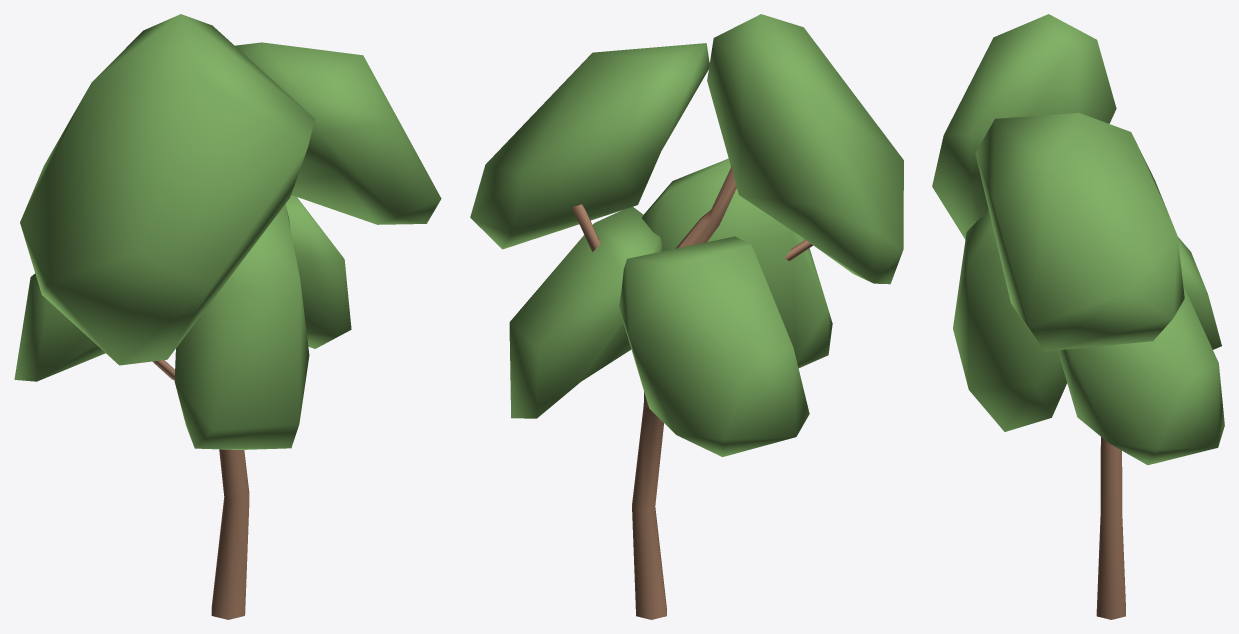
The model's file is tree10.fbx.
The picture shows the model from 3 angles, left to right: view 1: azimuth 30°, elevation 25°; view 2: azimuth 150°, elevation 25°; view 3: azimuth 270°, elevation 25°; orthographic projection. The views are drawn at different scales.
Parts seen in each view (by area): view 1: tree10; view 2: tree10; view 3: tree10.
Boxes of the visible parts, box(x1,y1,x2,y2) form: tree10: box(14, 14, 441, 619); tree10: box(470, 14, 903, 619); tree10: box(932, 14, 1224, 619).
Bounding box in the file's own units: 2.08 × 3.21 × 1.51.
